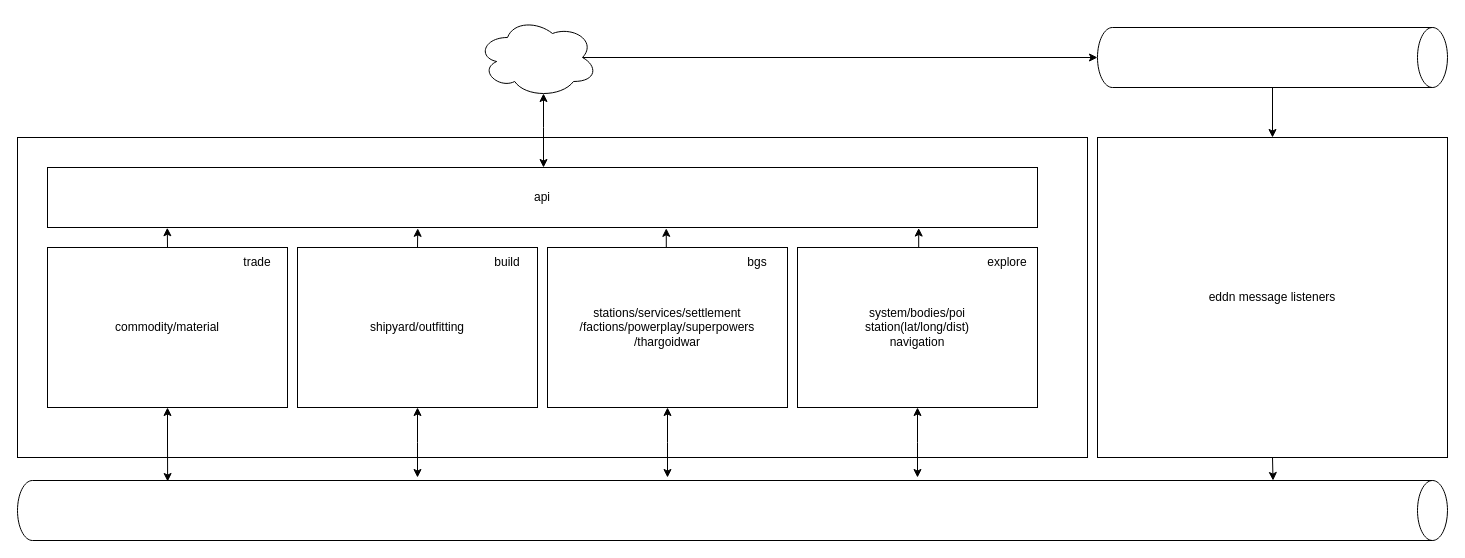
Image size: 1465x558. Some labels were removed from this diagram. The shapes that lost their labels are listed below. From the top down, each one's centre as x and y in pixels, then its label:
At point (537, 57): "WWW".
At point (1272, 57): "EDDN".
At point (732, 510): "kafka".
